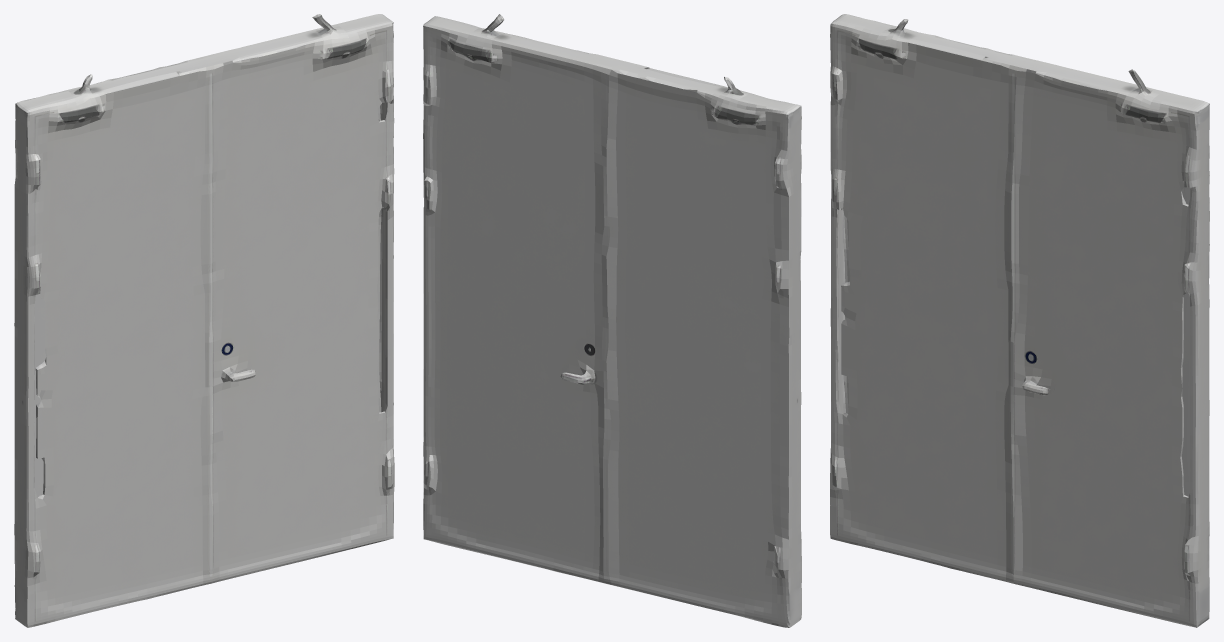
Rendered from Meshy_AI_Double_metal_doors_0518135945_texture.fbx.
3 views of the same model, side by side, from view 1: azimuth 30°, elevation 25°; view 2: azimuth 150°, elevation 25°; view 3: azimuth 330°, elevation 25° (orthographic).
Parts seen in each view (by area): view 1: temp; view 2: temp; view 3: temp.
Part boxes in pixels (box(x1,y1,x2,y2)): temp: box(14, 14, 394, 627); temp: box(423, 14, 801, 627); temp: box(830, 14, 1209, 627).
Size of the model in its own units: 137 by 191 by 17.73.
1 material, 1 textured.
